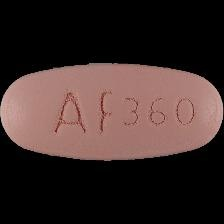60429-017: (0, 0, 224, 224)
